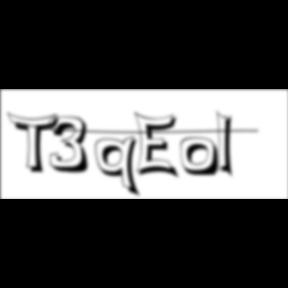3: (50, 116, 96, 176)
E: (135, 110, 184, 182)
T: (7, 112, 65, 176)
l: (216, 108, 240, 182)
o: (180, 137, 222, 179)
q: (96, 135, 144, 200)
